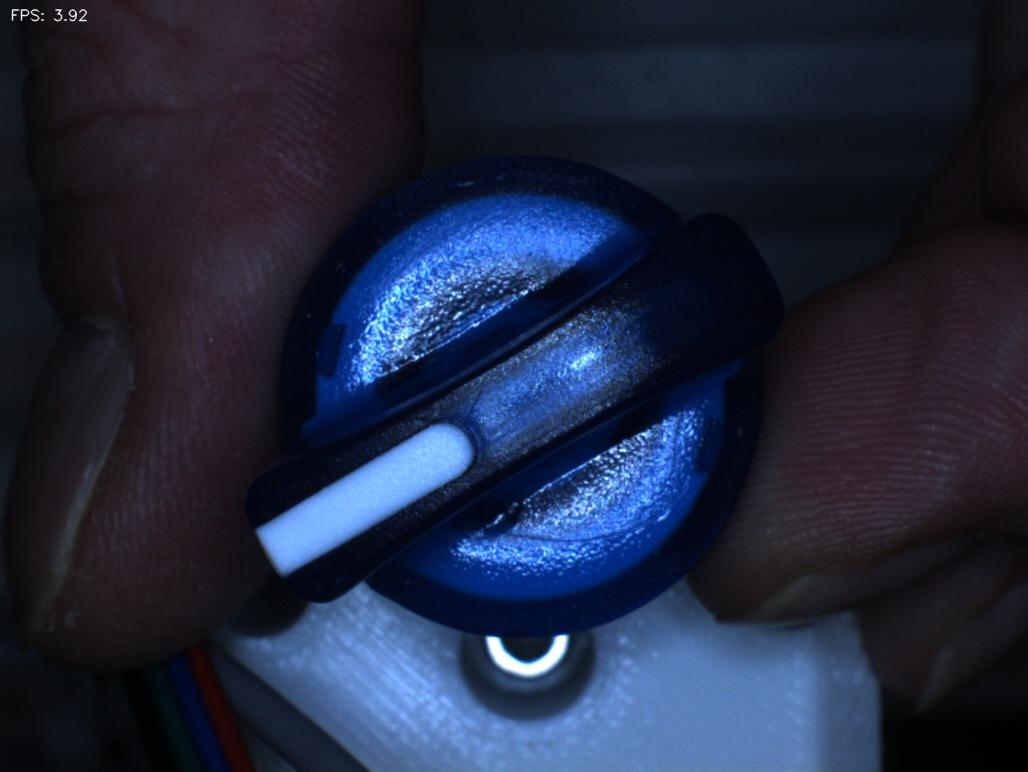Choc: (461, 486, 541, 570)
